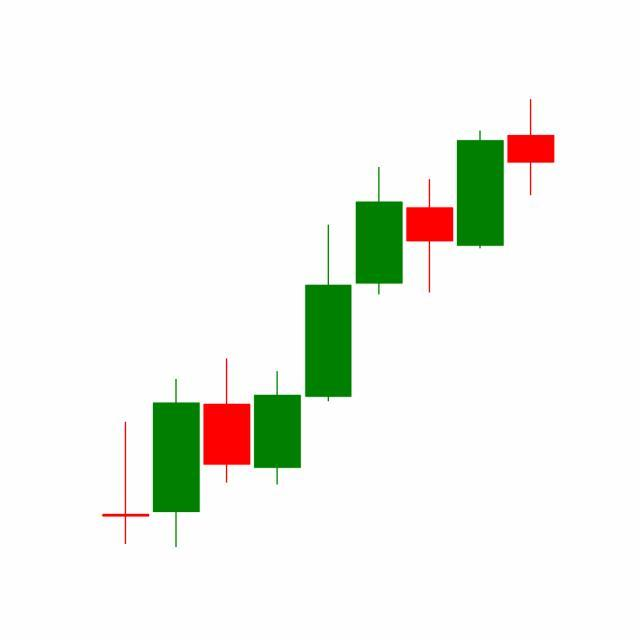Hikkake Pattern: (252, 127, 506, 489)
